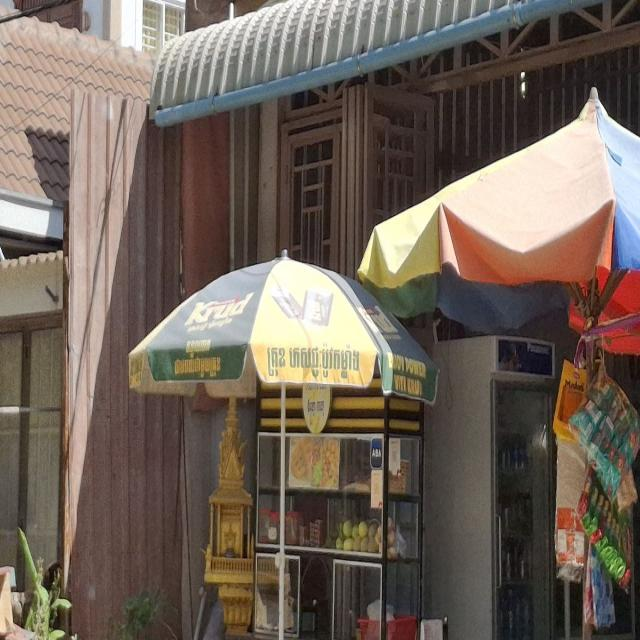Yolov11kh: (258, 337, 370, 405)
